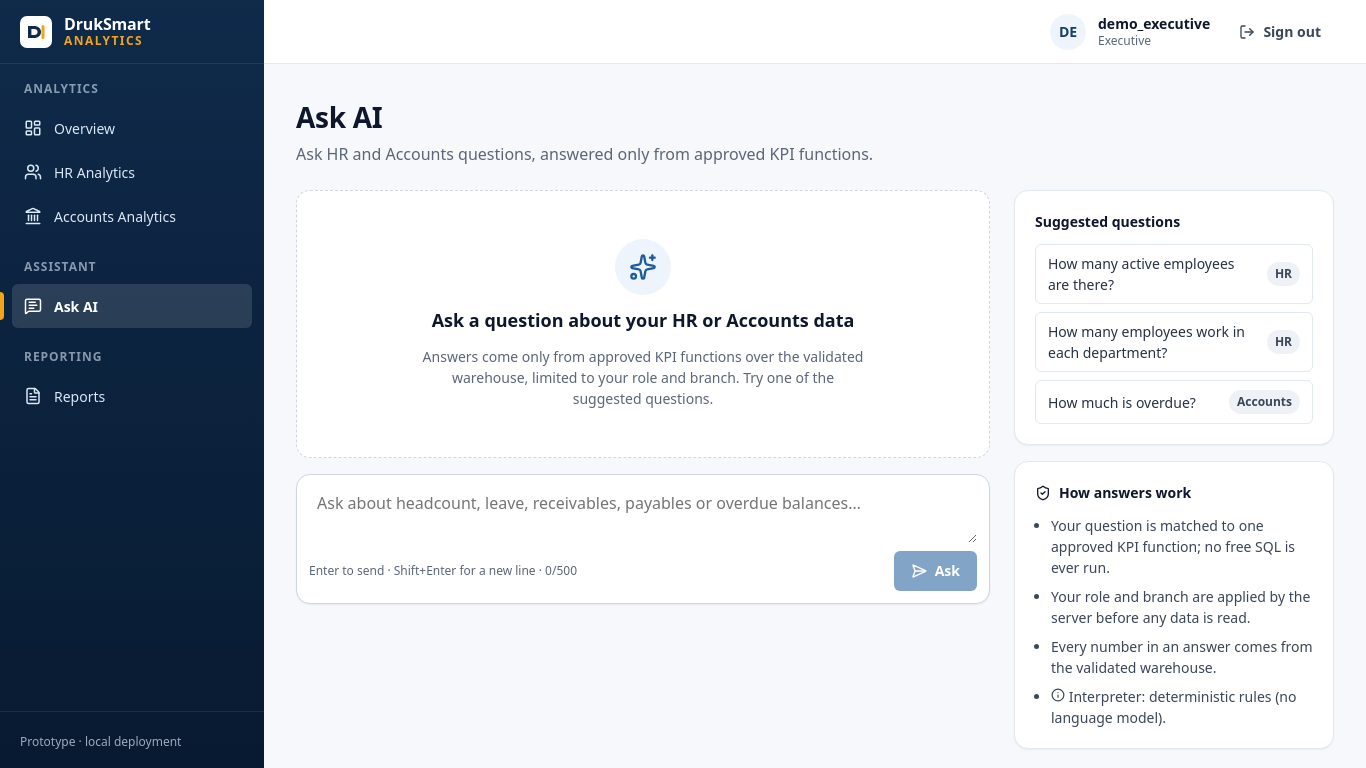
Test: Ask AI › offers clarification options as one-click questions
Type "what is the weather" into the text box named "Your question" at (643, 515), box [309, 487, 977, 543]
Then press Enter
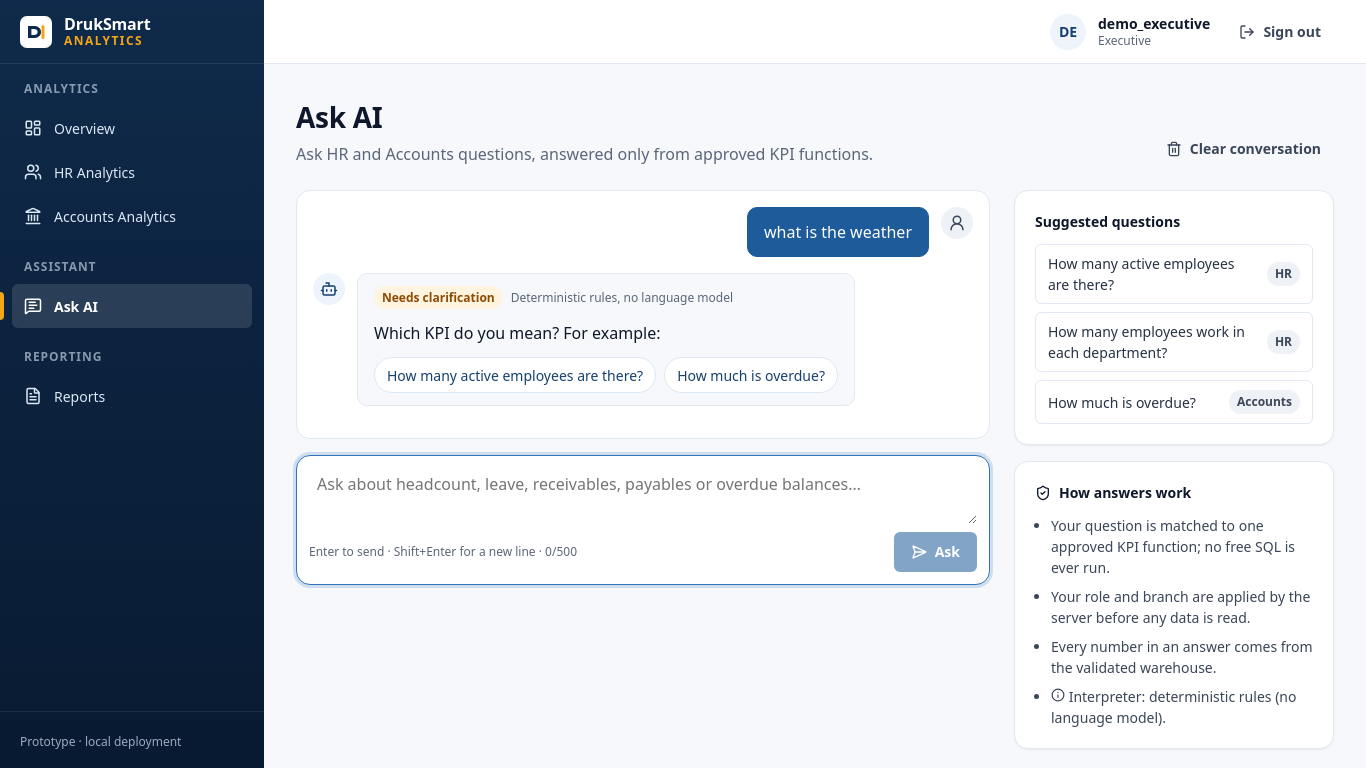
Click the button "How much is overdue?" at (751, 375), box [664, 357, 838, 393]
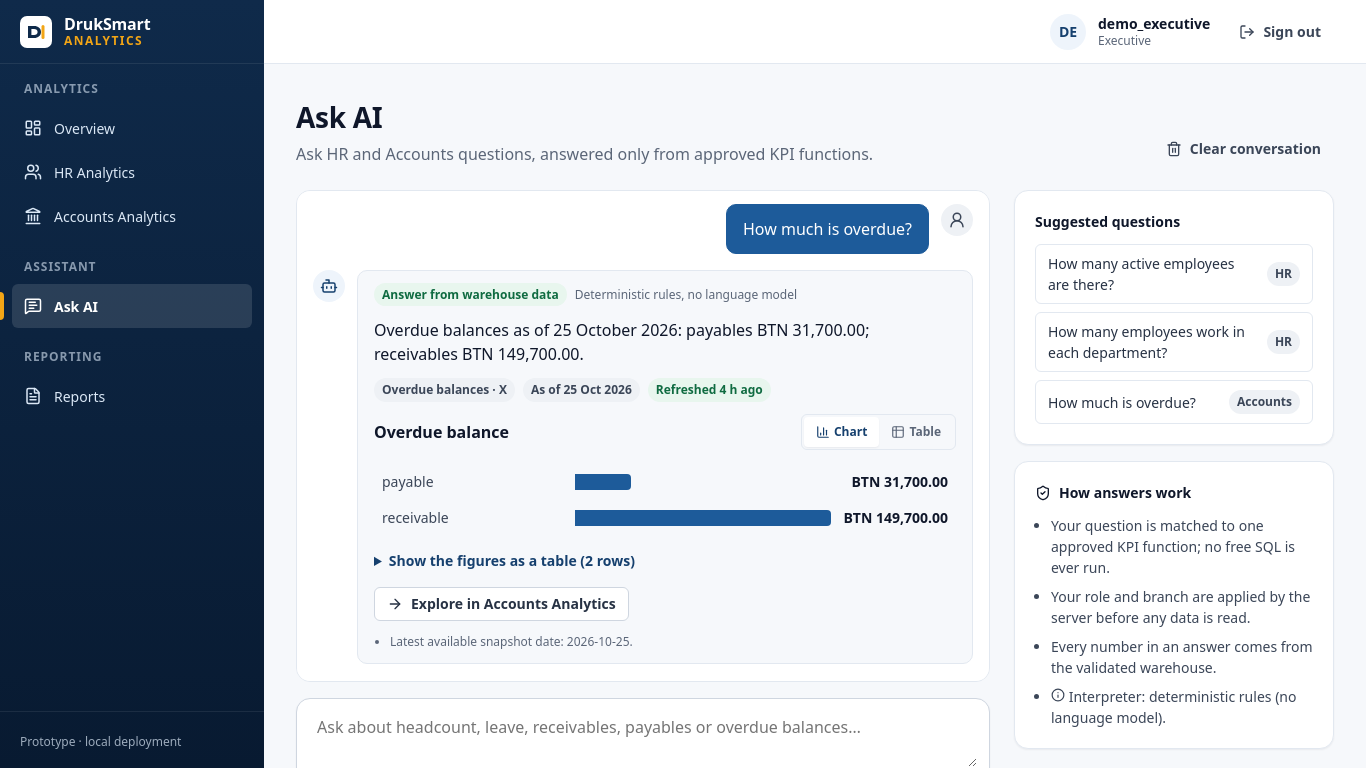
Expected: the text "receivables BTN 149,700.00" is shown, [374, 319, 869, 365]
